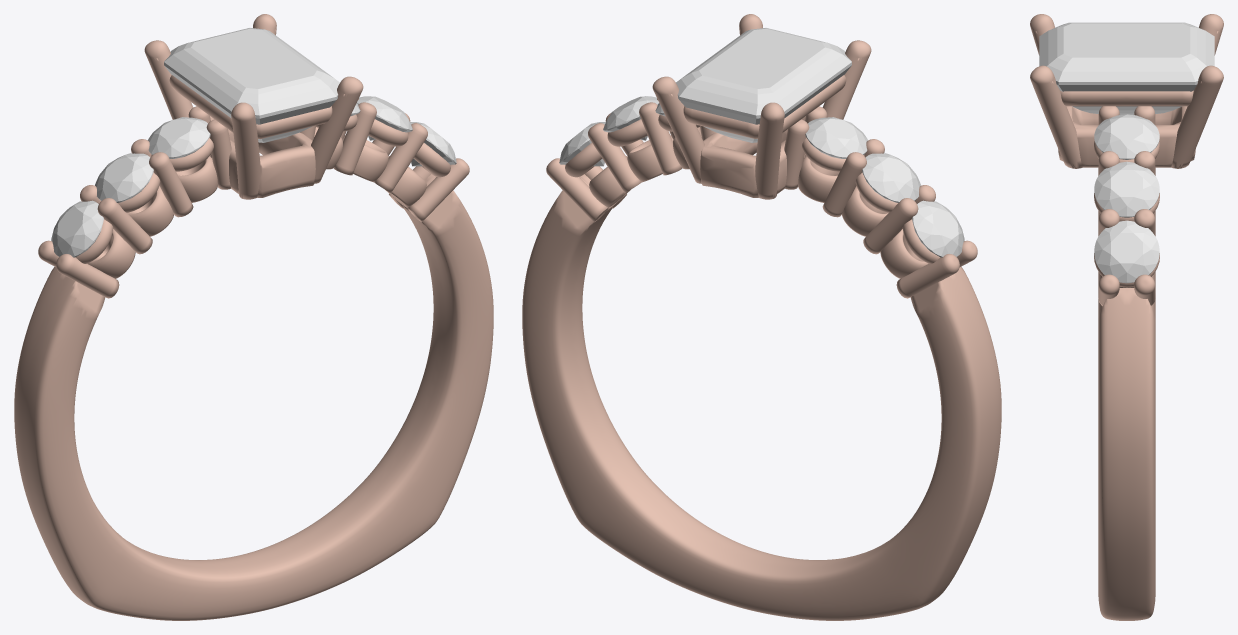
File: diamond-emerald-rosegold-4prong-europeanshank-7stone.glb
3 views of the same model, side by side, from view 1: azimuth 30°, elevation 25°; view 2: azimuth 150°, elevation 25°; view 3: azimuth 270°, elevation 25° (orthographic).
Parts seen in each view (by area): view 1: metal, stone, side, side.001, side.002, side.004, side.005; view 2: metal, stone, side, side.001, side.002, side.004, side.005; view 3: metal, stone, side.005, side.004, side.003.
Boxes of the visible parts, x1=… form: metal: x1=14, y1=14, x2=493, y2=620; stone: x1=164, y1=28, x2=339, y2=142; side: x1=51, y1=200, x2=103, y2=257; side.001: x1=95, y1=153, x2=153, y2=202; side.002: x1=147, y1=117, x2=210, y2=158; side.004: x1=357, y1=96, x2=412, y2=140; side.005: x1=410, y1=122, x2=456, y2=166; metal: x1=522, y1=14, x2=1001, y2=620; stone: x1=676, y1=28, x2=851, y2=142; side: x1=912, y1=200, x2=964, y2=257; side.001: x1=862, y1=153, x2=920, y2=202; side.002: x1=805, y1=117, x2=868, y2=158; side.004: x1=603, y1=96, x2=658, y2=140; side.005: x1=559, y1=122, x2=605, y2=166; metal: x1=1030, y1=14, x2=1223, y2=620; stone: x1=1039, y1=22, x2=1214, y2=114; side.005: x1=1094, y1=220, x2=1159, y2=283; side.004: x1=1094, y1=161, x2=1159, y2=217; side.003: x1=1094, y1=114, x2=1159, y2=159.
Bounding box in the file's own units: 20.1 × 22.75 × 7.4.
